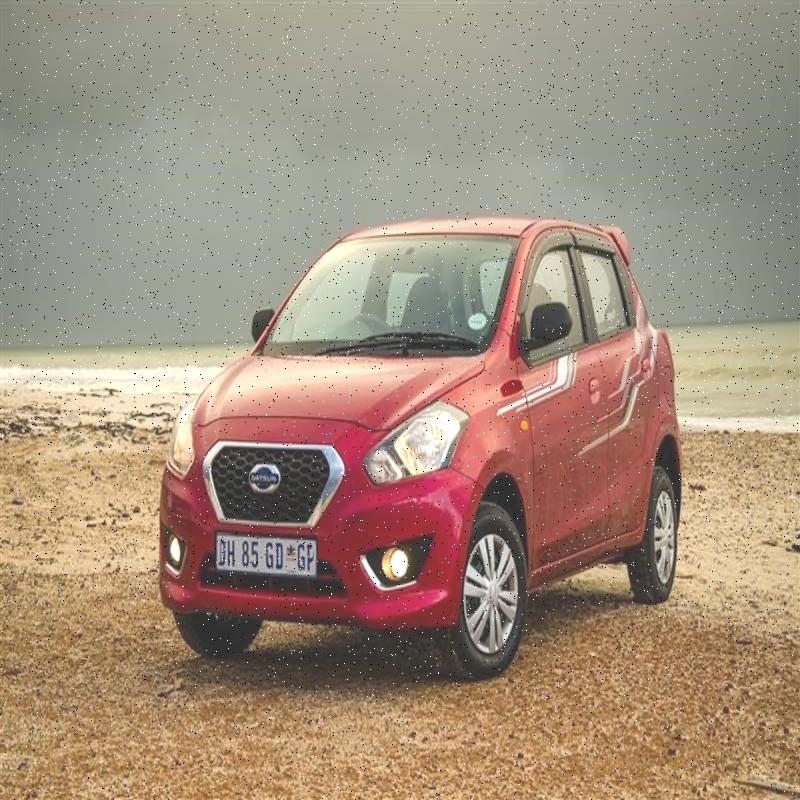car: (144, 142, 714, 659)
